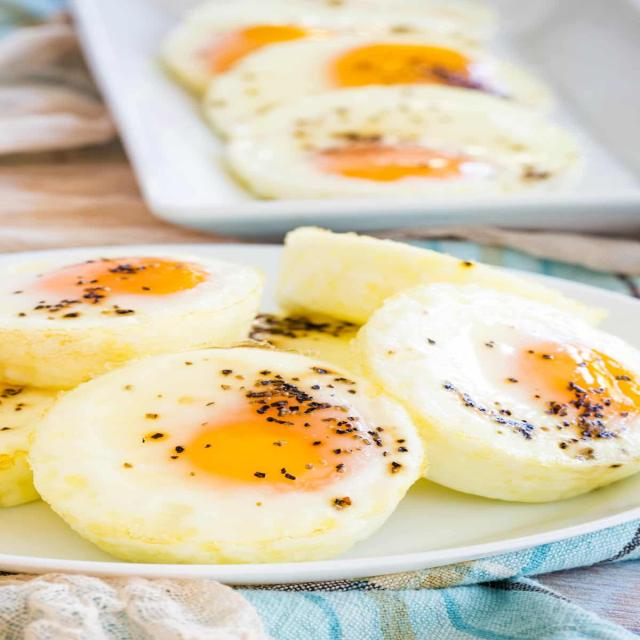eggs: (28, 239, 601, 574), (256, 0, 582, 210)
